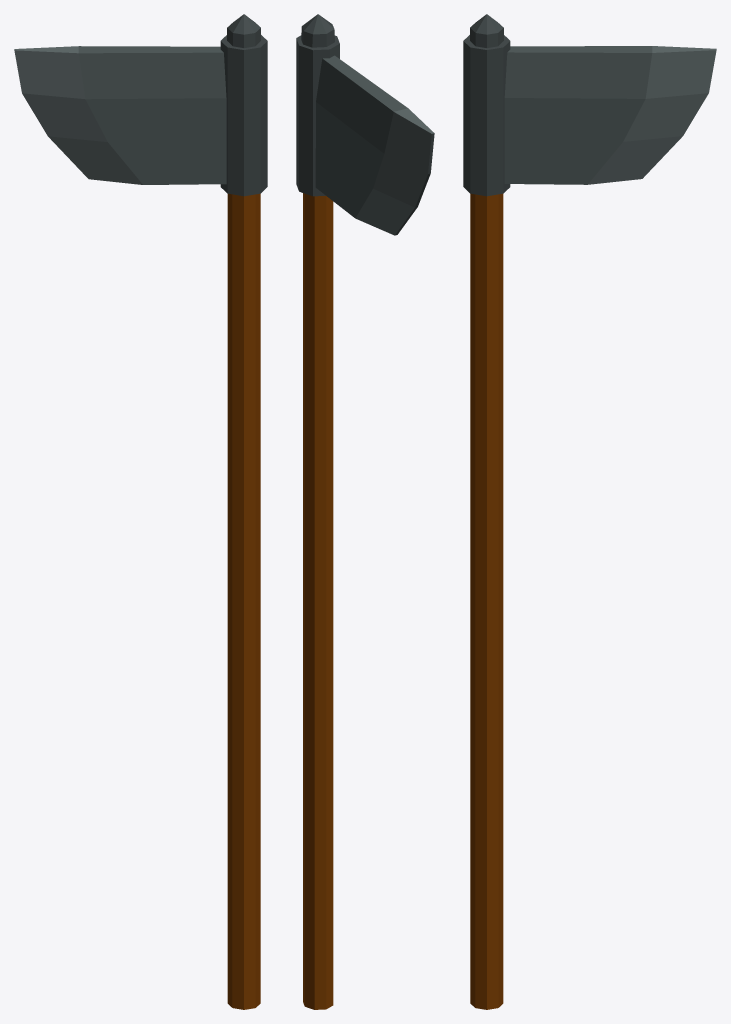
File: Axe4.fbx
The picture shows the model from 3 angles, left to right: view 1: azimuth 90°, elevation 25°; view 2: azimuth 210°, elevation 25°; view 3: azimuth 270°, elevation 25°; orthographic projection.
Visible parts, largest first — view 1: Cube.027; view 2: Cube.027; view 3: Cube.027.
Boxes of the visible parts, left/top/right/bottom form: Cube.027: left=14, top=14, right=267, bottom=1009; Cube.027: left=296, top=14, right=434, bottom=1009; Cube.027: left=463, top=14, right=716, bottom=1009.
Bounding box in the file's own units: 0.0641 × 0.3693 × 1.59.
